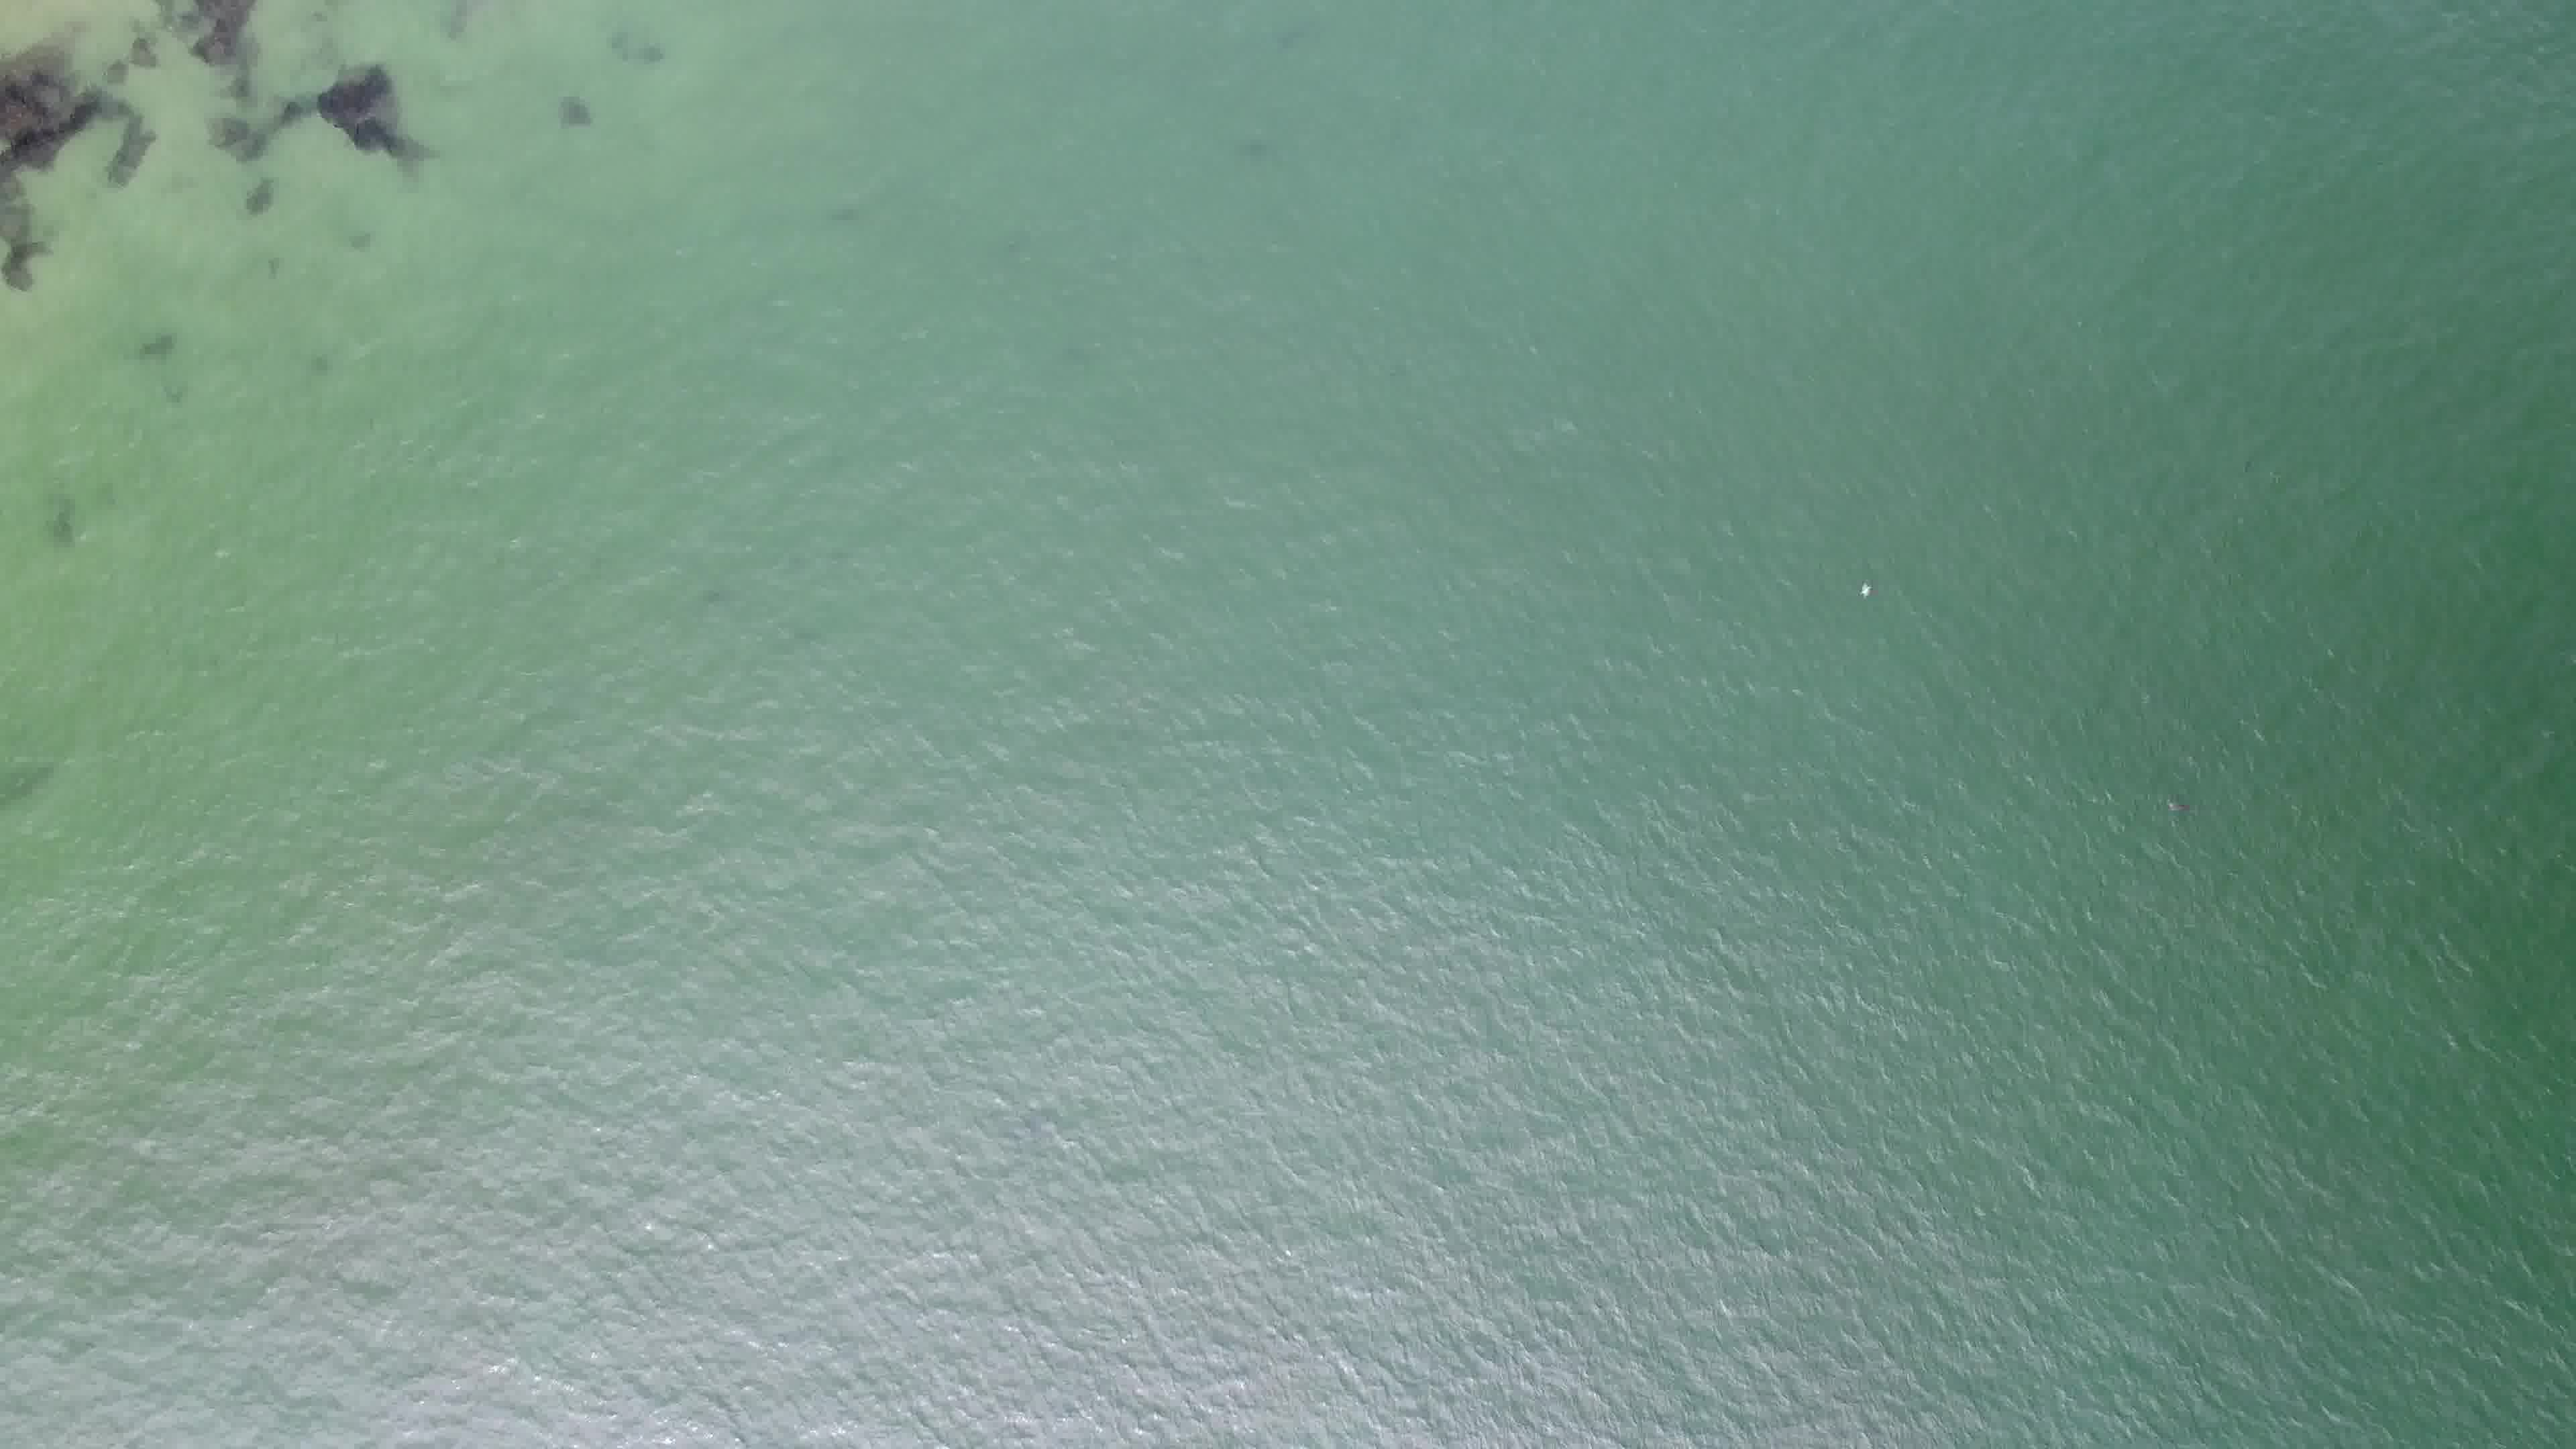dolphin: (2150, 787, 2210, 821)
